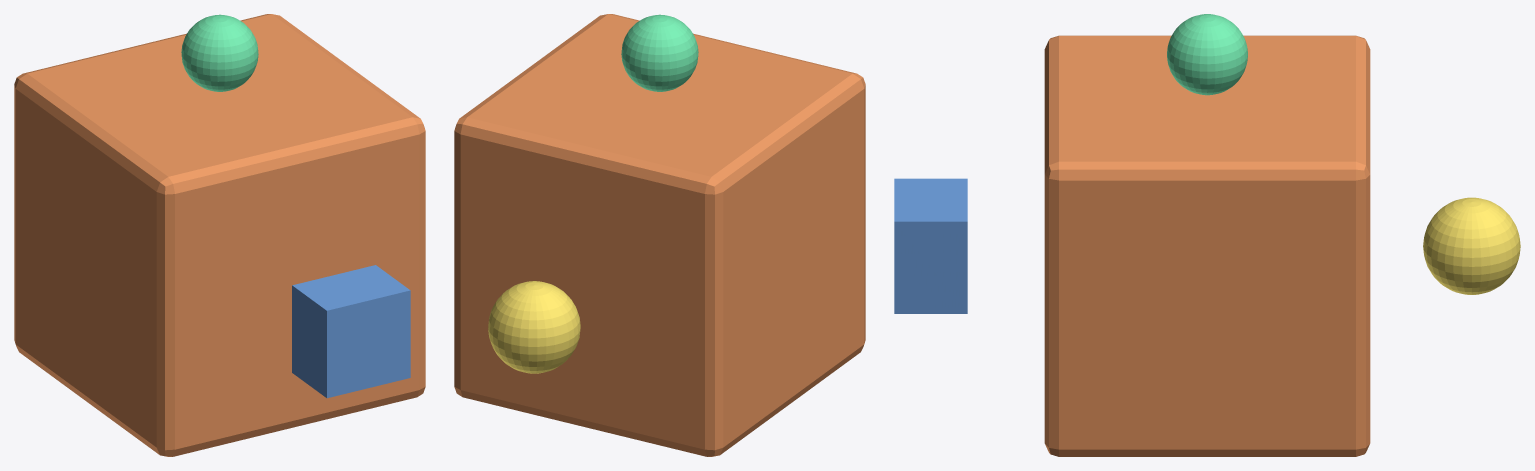
The model's file is blender_link_test.glb.
3 renders of one model, left to right at view 1: azimuth 30°, elevation 25°; view 2: azimuth 150°, elevation 25°; view 3: azimuth 270°, elevation 25°, orthographic. The views are drawn at different scales.
Visible parts, largest first — view 1: Body, BackMarker, TopMarker; view 2: Body, ForwardMarker, TopMarker; view 3: Body, BackMarker, ForwardMarker, TopMarker.
Boxes of the visible parts, x1,y1,x2,y2 form: Body: [14, 14, 425, 456]; BackMarker: [292, 265, 410, 398]; TopMarker: [181, 14, 258, 91]; Body: [454, 14, 865, 456]; ForwardMarker: [488, 281, 580, 373]; TopMarker: [621, 14, 698, 91]; Body: [1044, 35, 1370, 456]; BackMarker: [894, 178, 967, 313]; ForwardMarker: [1423, 197, 1520, 294]; TopMarker: [1167, 14, 1247, 95].
Size of the model in its own units: 0.8 by 1.02 by 1.54.
